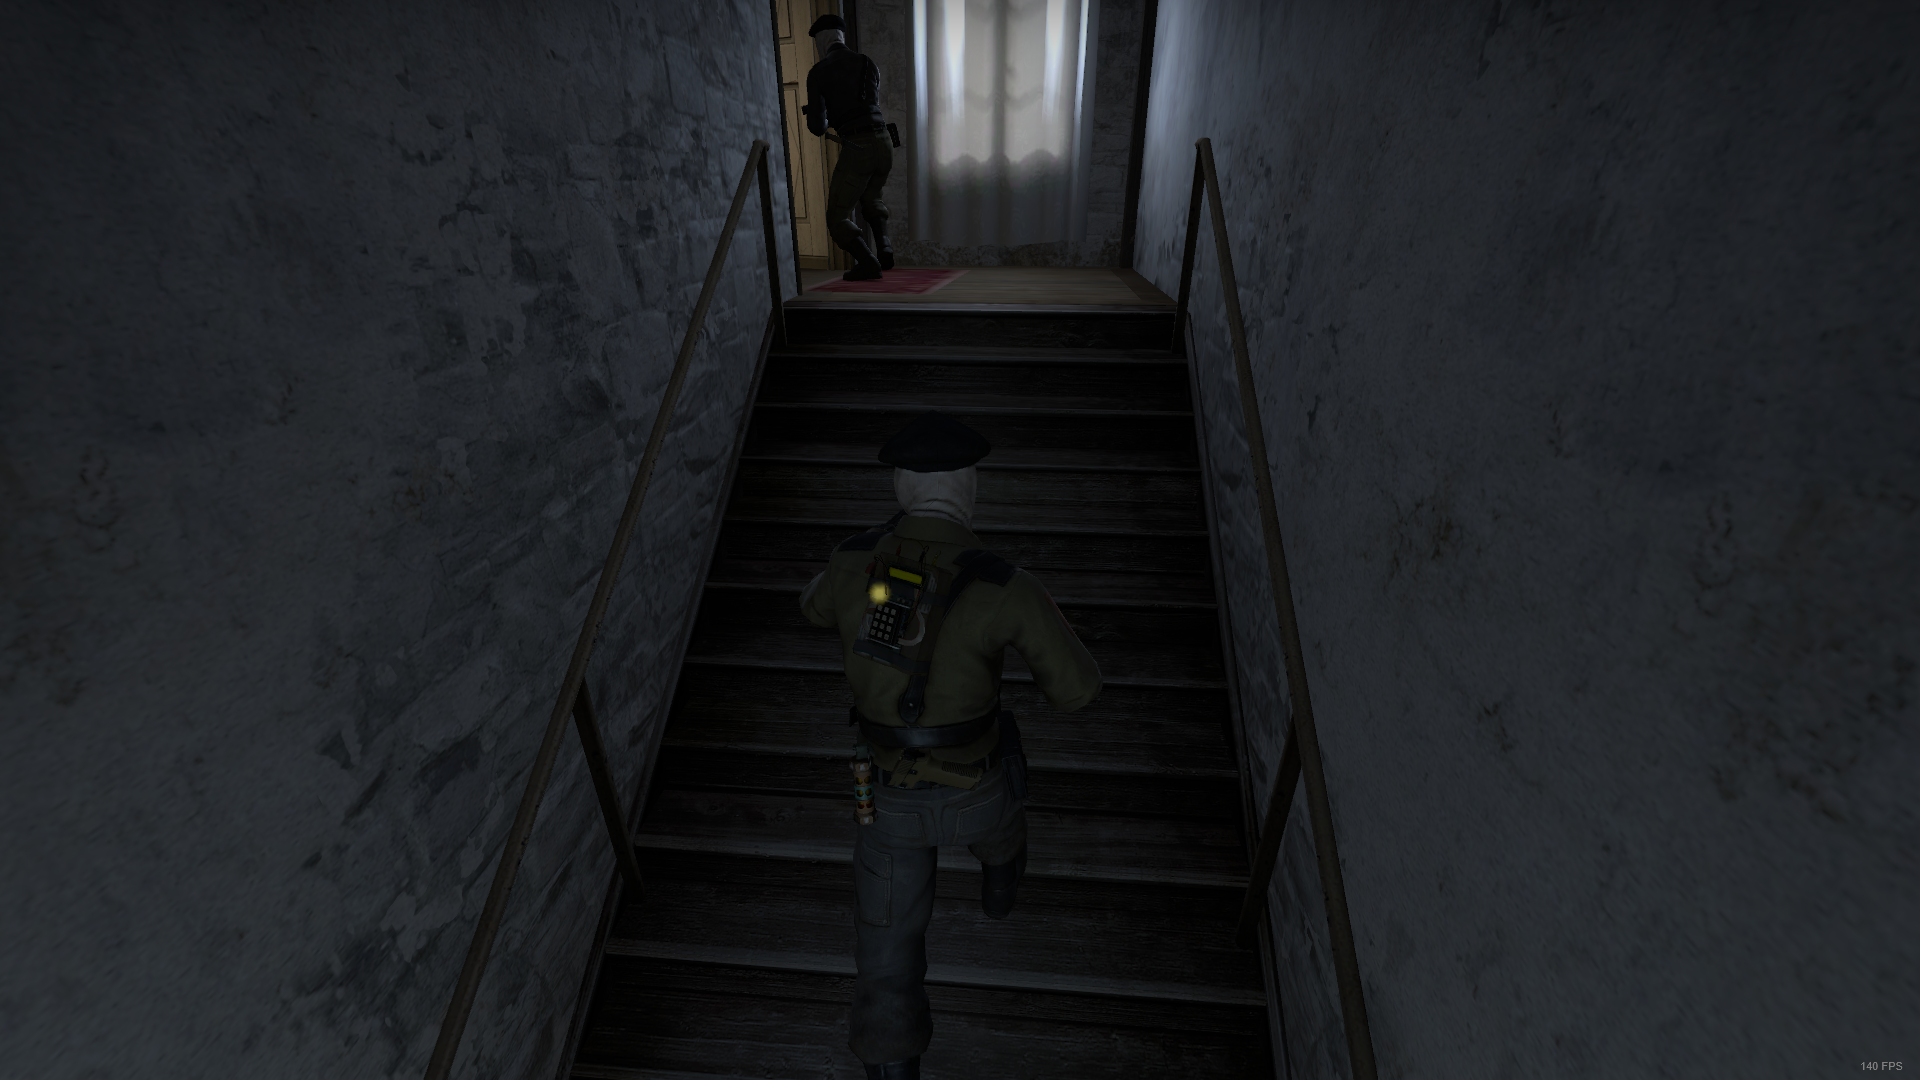t: (796, 415, 1102, 1080), (800, 17, 897, 282)
